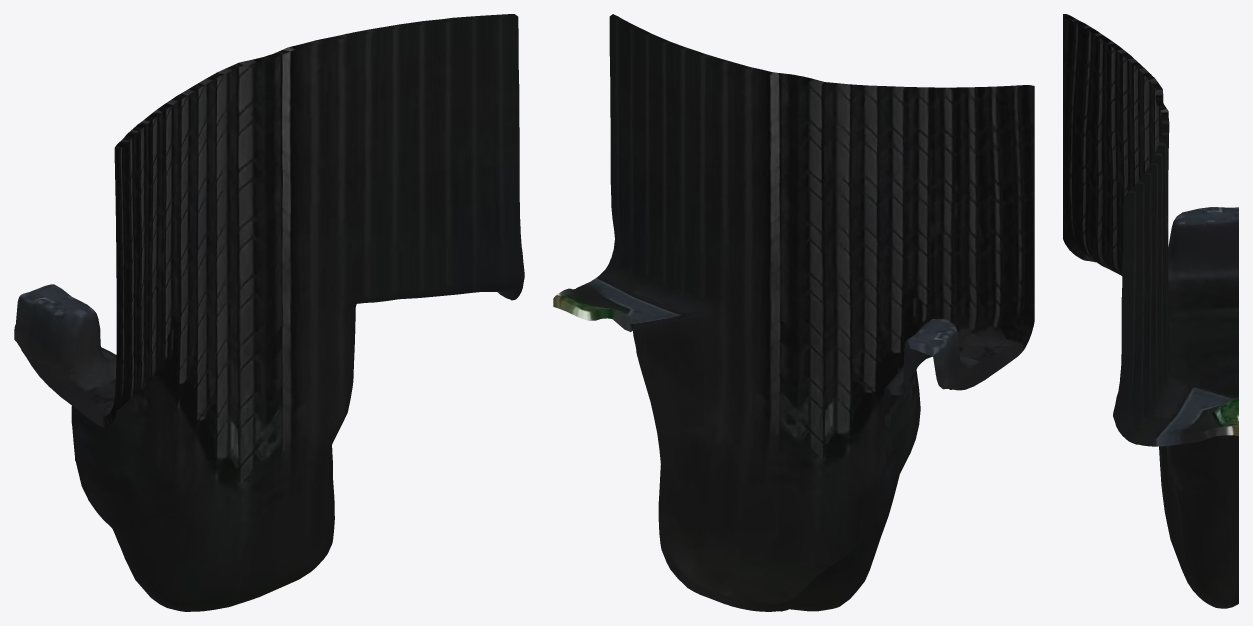
The model's file is z20-167777-405230-h0-yup-uvflip-v3-world.glb.
The picture shows the model from 3 angles, left to right: view 1: azimuth 30°, elevation 25°; view 2: azimuth 150°, elevation 25°; view 3: azimuth 270°, elevation 25°; orthographic projection. The views are drawn at different scales.
Size of the model in its own units: 30.16 by 37.32 by 12.24.
1 material, 1 textured.
